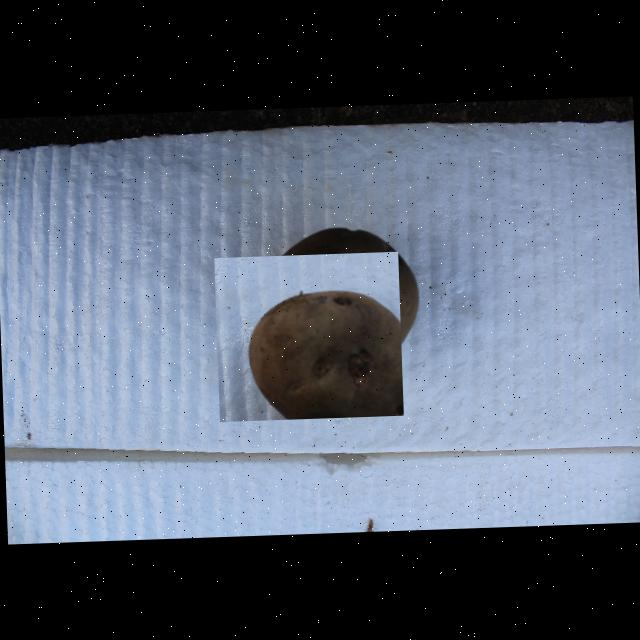Diseased-fungal potato: (214, 252, 404, 422)
